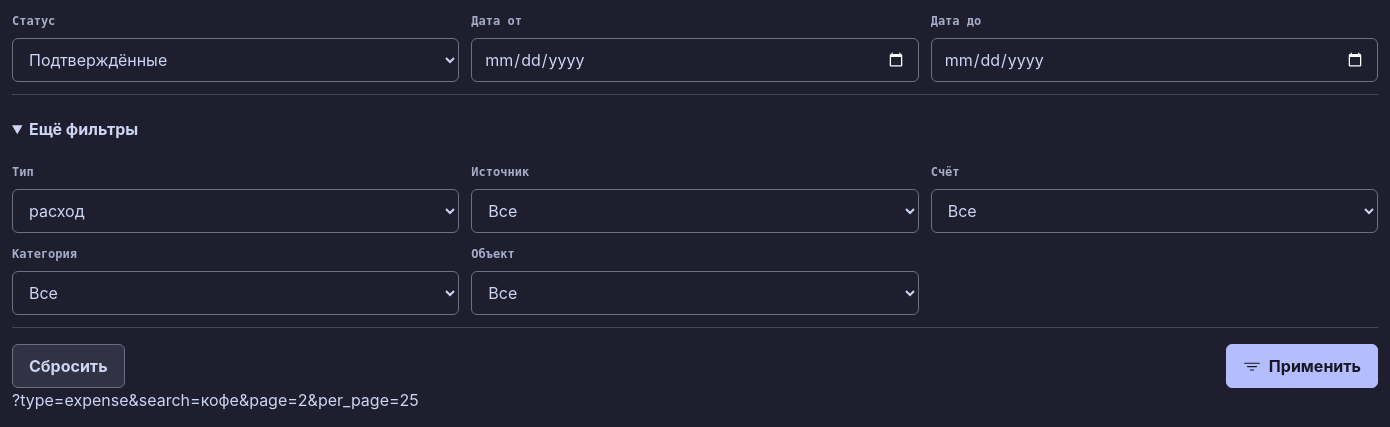
Test: ManualLedgerFilters › keeps draft controls separate from the applied URL until Apply
Check: the dropdown labelled "Тип" shows "расход", box [12, 189, 459, 233]
Check: the text with test id "location-search" shows "page=2", box [12, 390, 419, 410]
Select "все статусы" in the dropdown labelled "Статус" at {"x": 236, "y": 60}, box [12, 38, 459, 82]
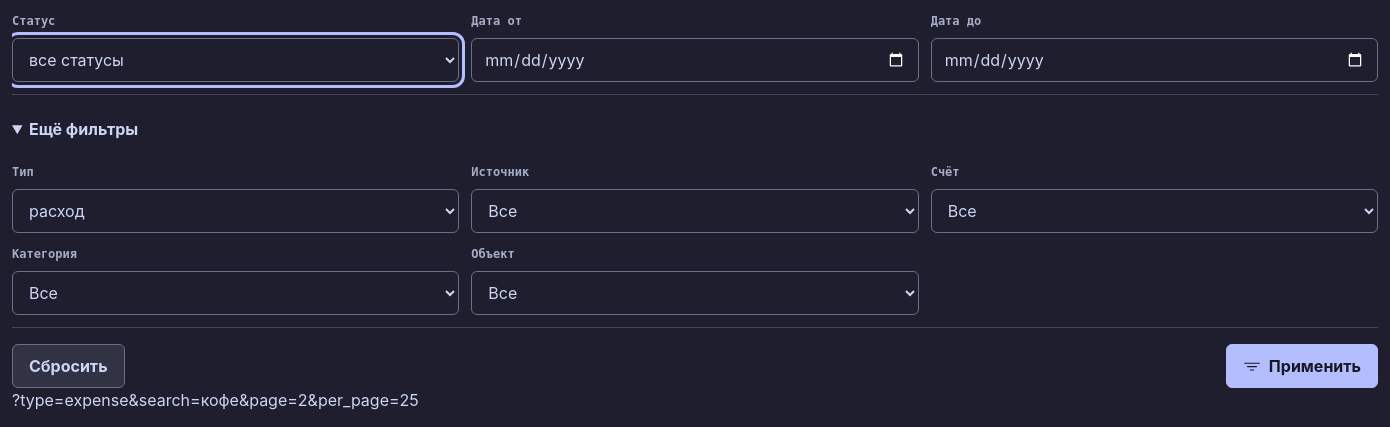
Check: the text with test id "location-search" shows "type=expense&search=кофе&page=2&per_page=25", box [12, 390, 419, 410]
Click the button "Применить" at {"x": 1302, "y": 366}, box [1226, 344, 1378, 388]
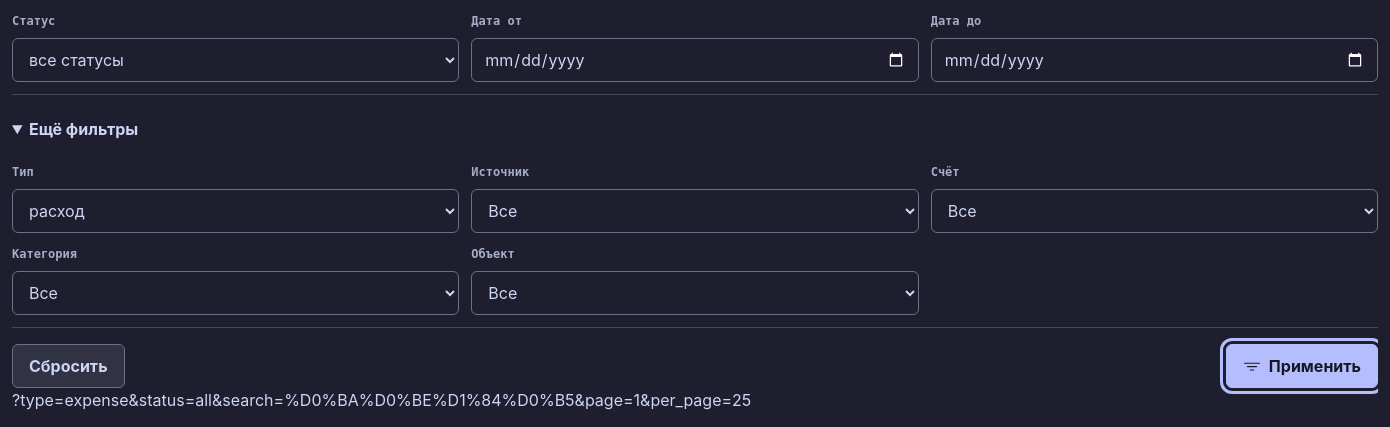
Check: the text with test id "location-search" shows "type=expense&status=all&search=%D0%BA%D0%BE%D1%84%D0%B5&page=1&per_page=25", box [12, 390, 751, 410]
